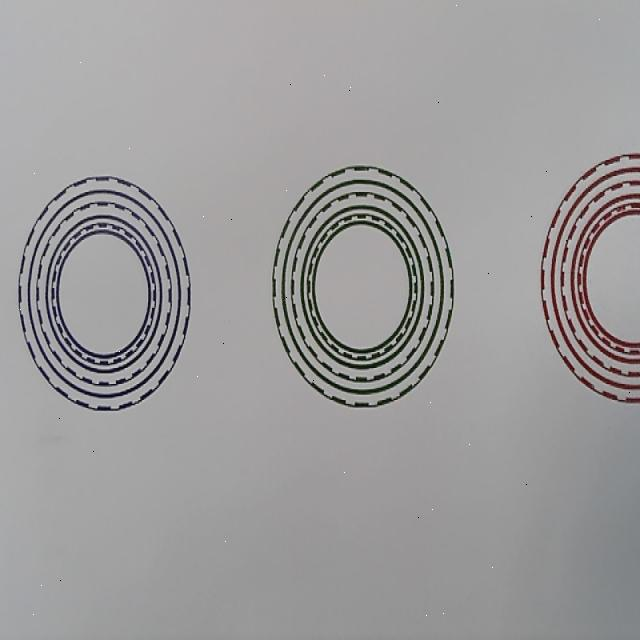b: (18, 175, 190, 411)
g: (273, 165, 454, 408)
